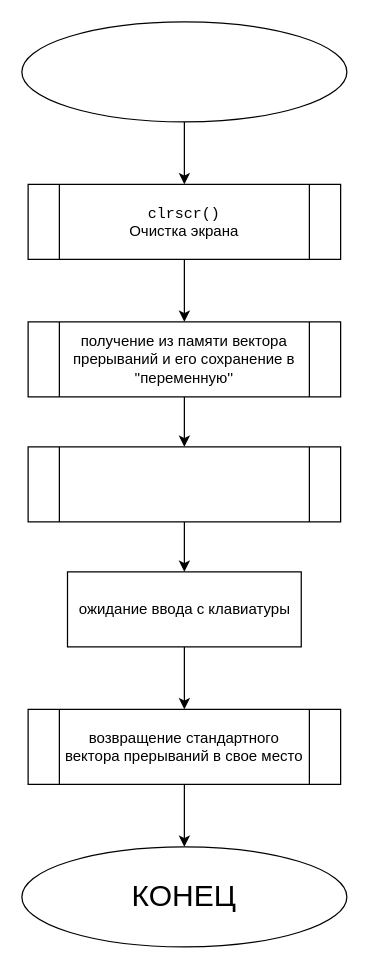
The diagram is 369 pixels wide and 969 high, and some of its shapes have lost their labels. The centre of each missing label's shape, as x and y in pixels:
"НАЧАЛО" goes at [184,71].
"подмена стандартного вектора прерываний своим вектором прерываний" goes at [184,484].
